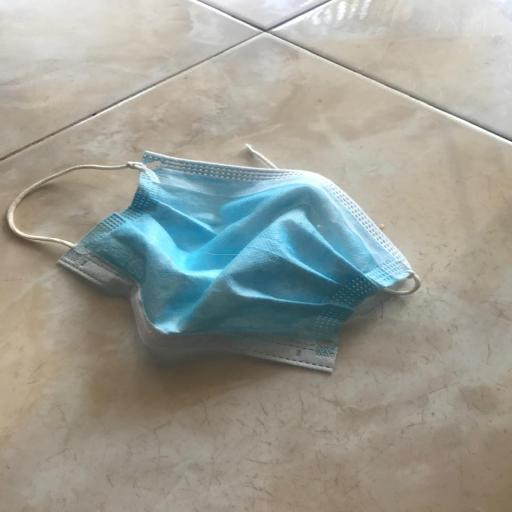waste: (0, 114, 424, 382)
